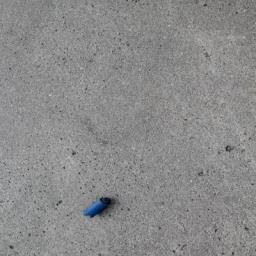FOD: (82, 193, 116, 225)
